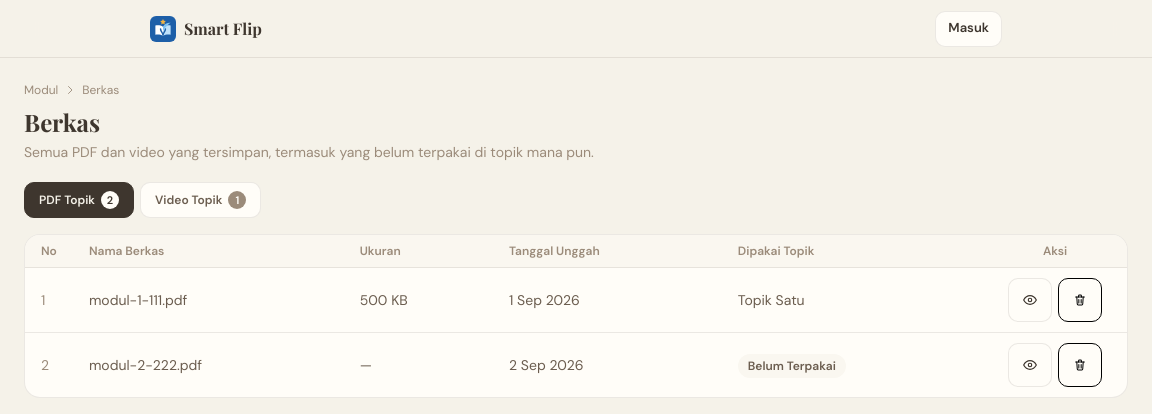
Test: KelolaPdf › klik tab "Video Topik" menampilkan nama berkas video
Expected: the text "modul-1-111.pdf" is shown, 73,268 -> 344,332
What coordinates should you click on to do the following:
click the button "Video Topik 1"
I would click on:
 (201, 200)
Its box is 140,182 -> 261,218.
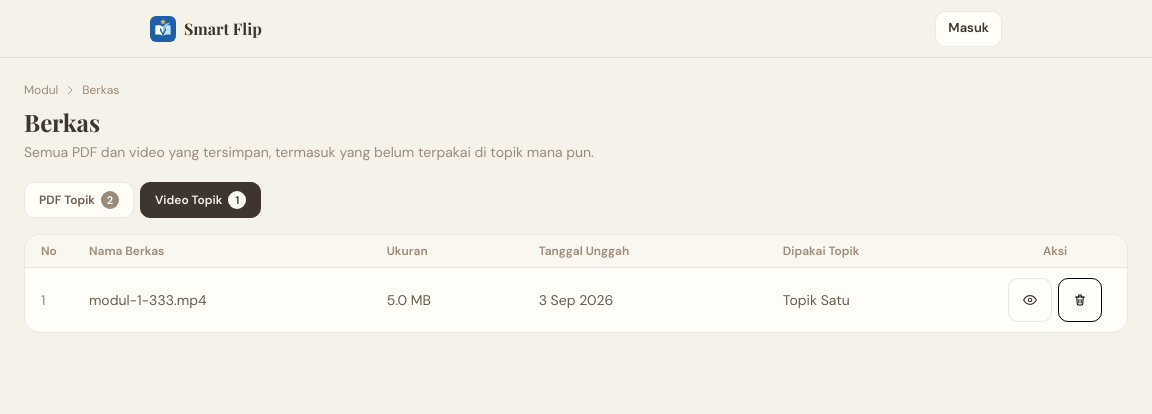
Expected: the text "modul-1-333.mp4" is shown, 73,268 -> 371,332
Expected: the text "5.0 MB" is shown, 371,268 -> 523,332
